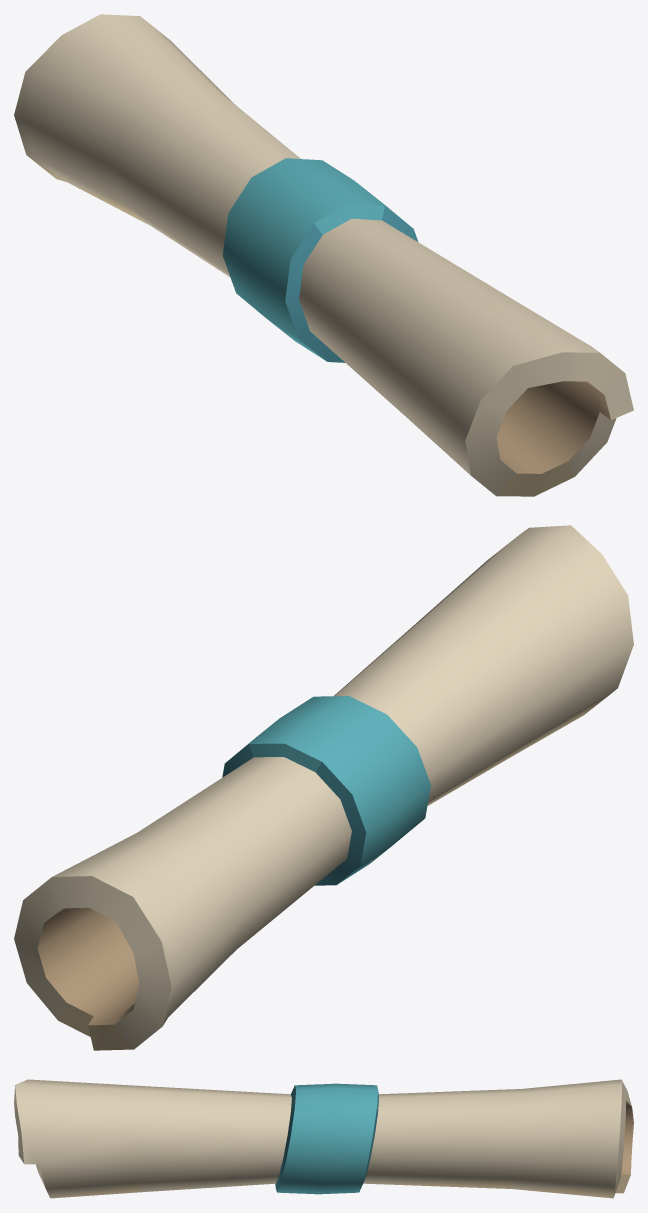
The model's file is itch_kaykit_rpg_tools_map_rolled.glb.
3 views of the same model, one above another, from view 1: azimuth 30°, elevation 25°; view 2: azimuth 150°, elevation 25°; view 3: azimuth 270°, elevation 25° (orthographic). The views are drawn at different scales.
Visible parts, largest first — view 1: map_rolled; view 2: map_rolled; view 3: map_rolled.
Part boxes in pixels (x1,y1,x2,y2): map_rolled: (14,14,633,496); map_rolled: (14,525,633,1050); map_rolled: (14,1079,633,1198).
Bounding box in the file's own units: 0.2317 × 0.2301 × 1.18.
